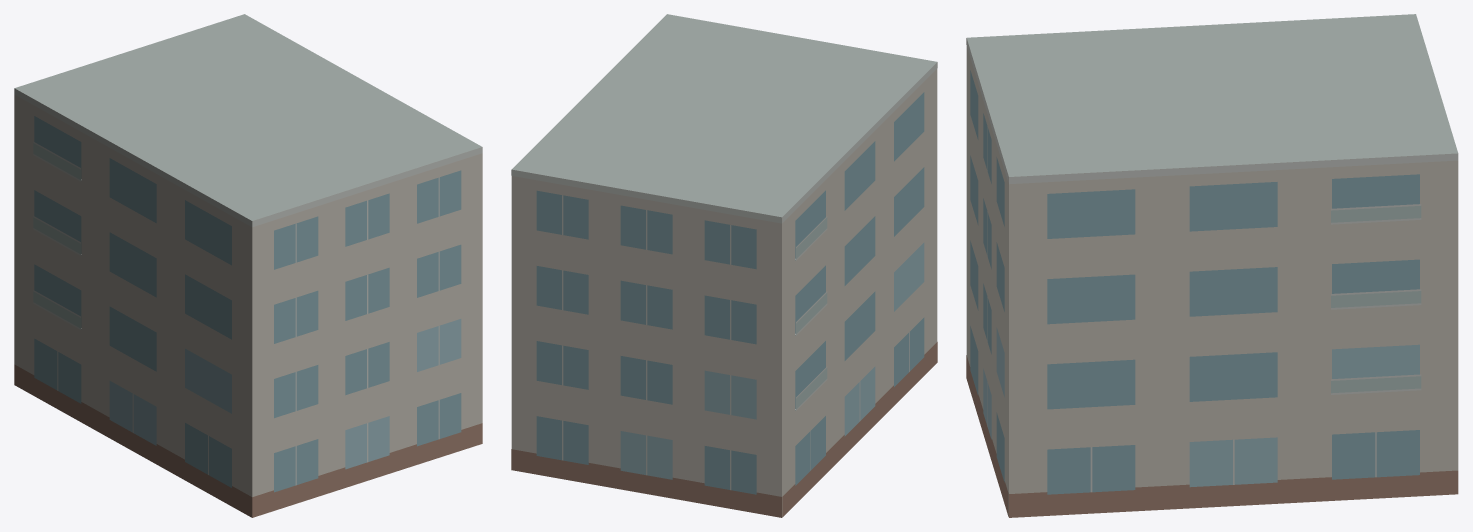
File: survey-upis-32576575.glb
The picture shows the model from 3 angles, left to right: view 1: azimuth 30°, elevation 25°; view 2: azimuth 150°, elevation 25°; view 3: azimuth 270°, elevation 25°; orthographic projection. The views are drawn at different scales.
Parts seen in each view (by area): view 1: survey-upis-32576575.tmp; view 2: survey-upis-32576575.tmp; view 3: survey-upis-32576575.tmp.
Part boxes in pixels (x1=…): survey-upis-32576575.tmp: x1=14, y1=14, x2=482, y2=517; survey-upis-32576575.tmp: x1=511, y1=14, x2=937, y2=517; survey-upis-32576575.tmp: x1=966, y1=14, x2=1458, y2=517.
Bounding box in the file's own units: 11.96 × 11.65 × 15.25.
